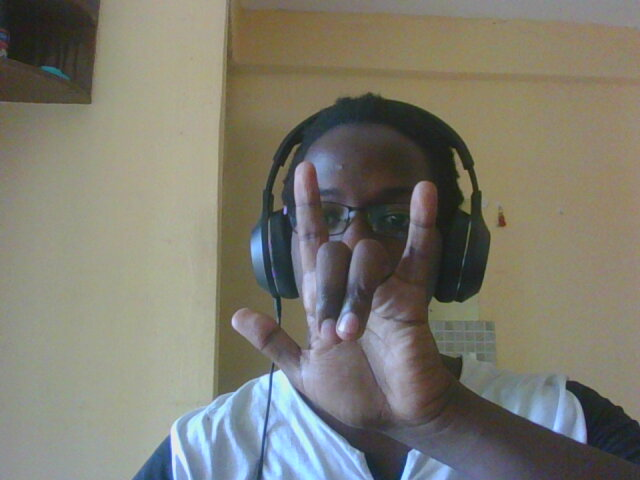I Love You: (193, 153, 504, 426)
